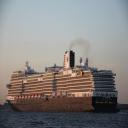cruises: (5, 51, 121, 115)
